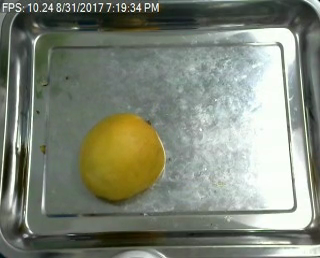Mango: (78, 113, 166, 200)
